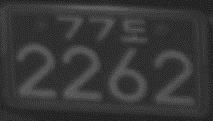2: (152, 47, 196, 106), (61, 44, 104, 103), (15, 42, 56, 100)
6: (108, 45, 147, 103)
7: (56, 14, 84, 39), (88, 16, 114, 42)
도: (120, 18, 148, 43)
